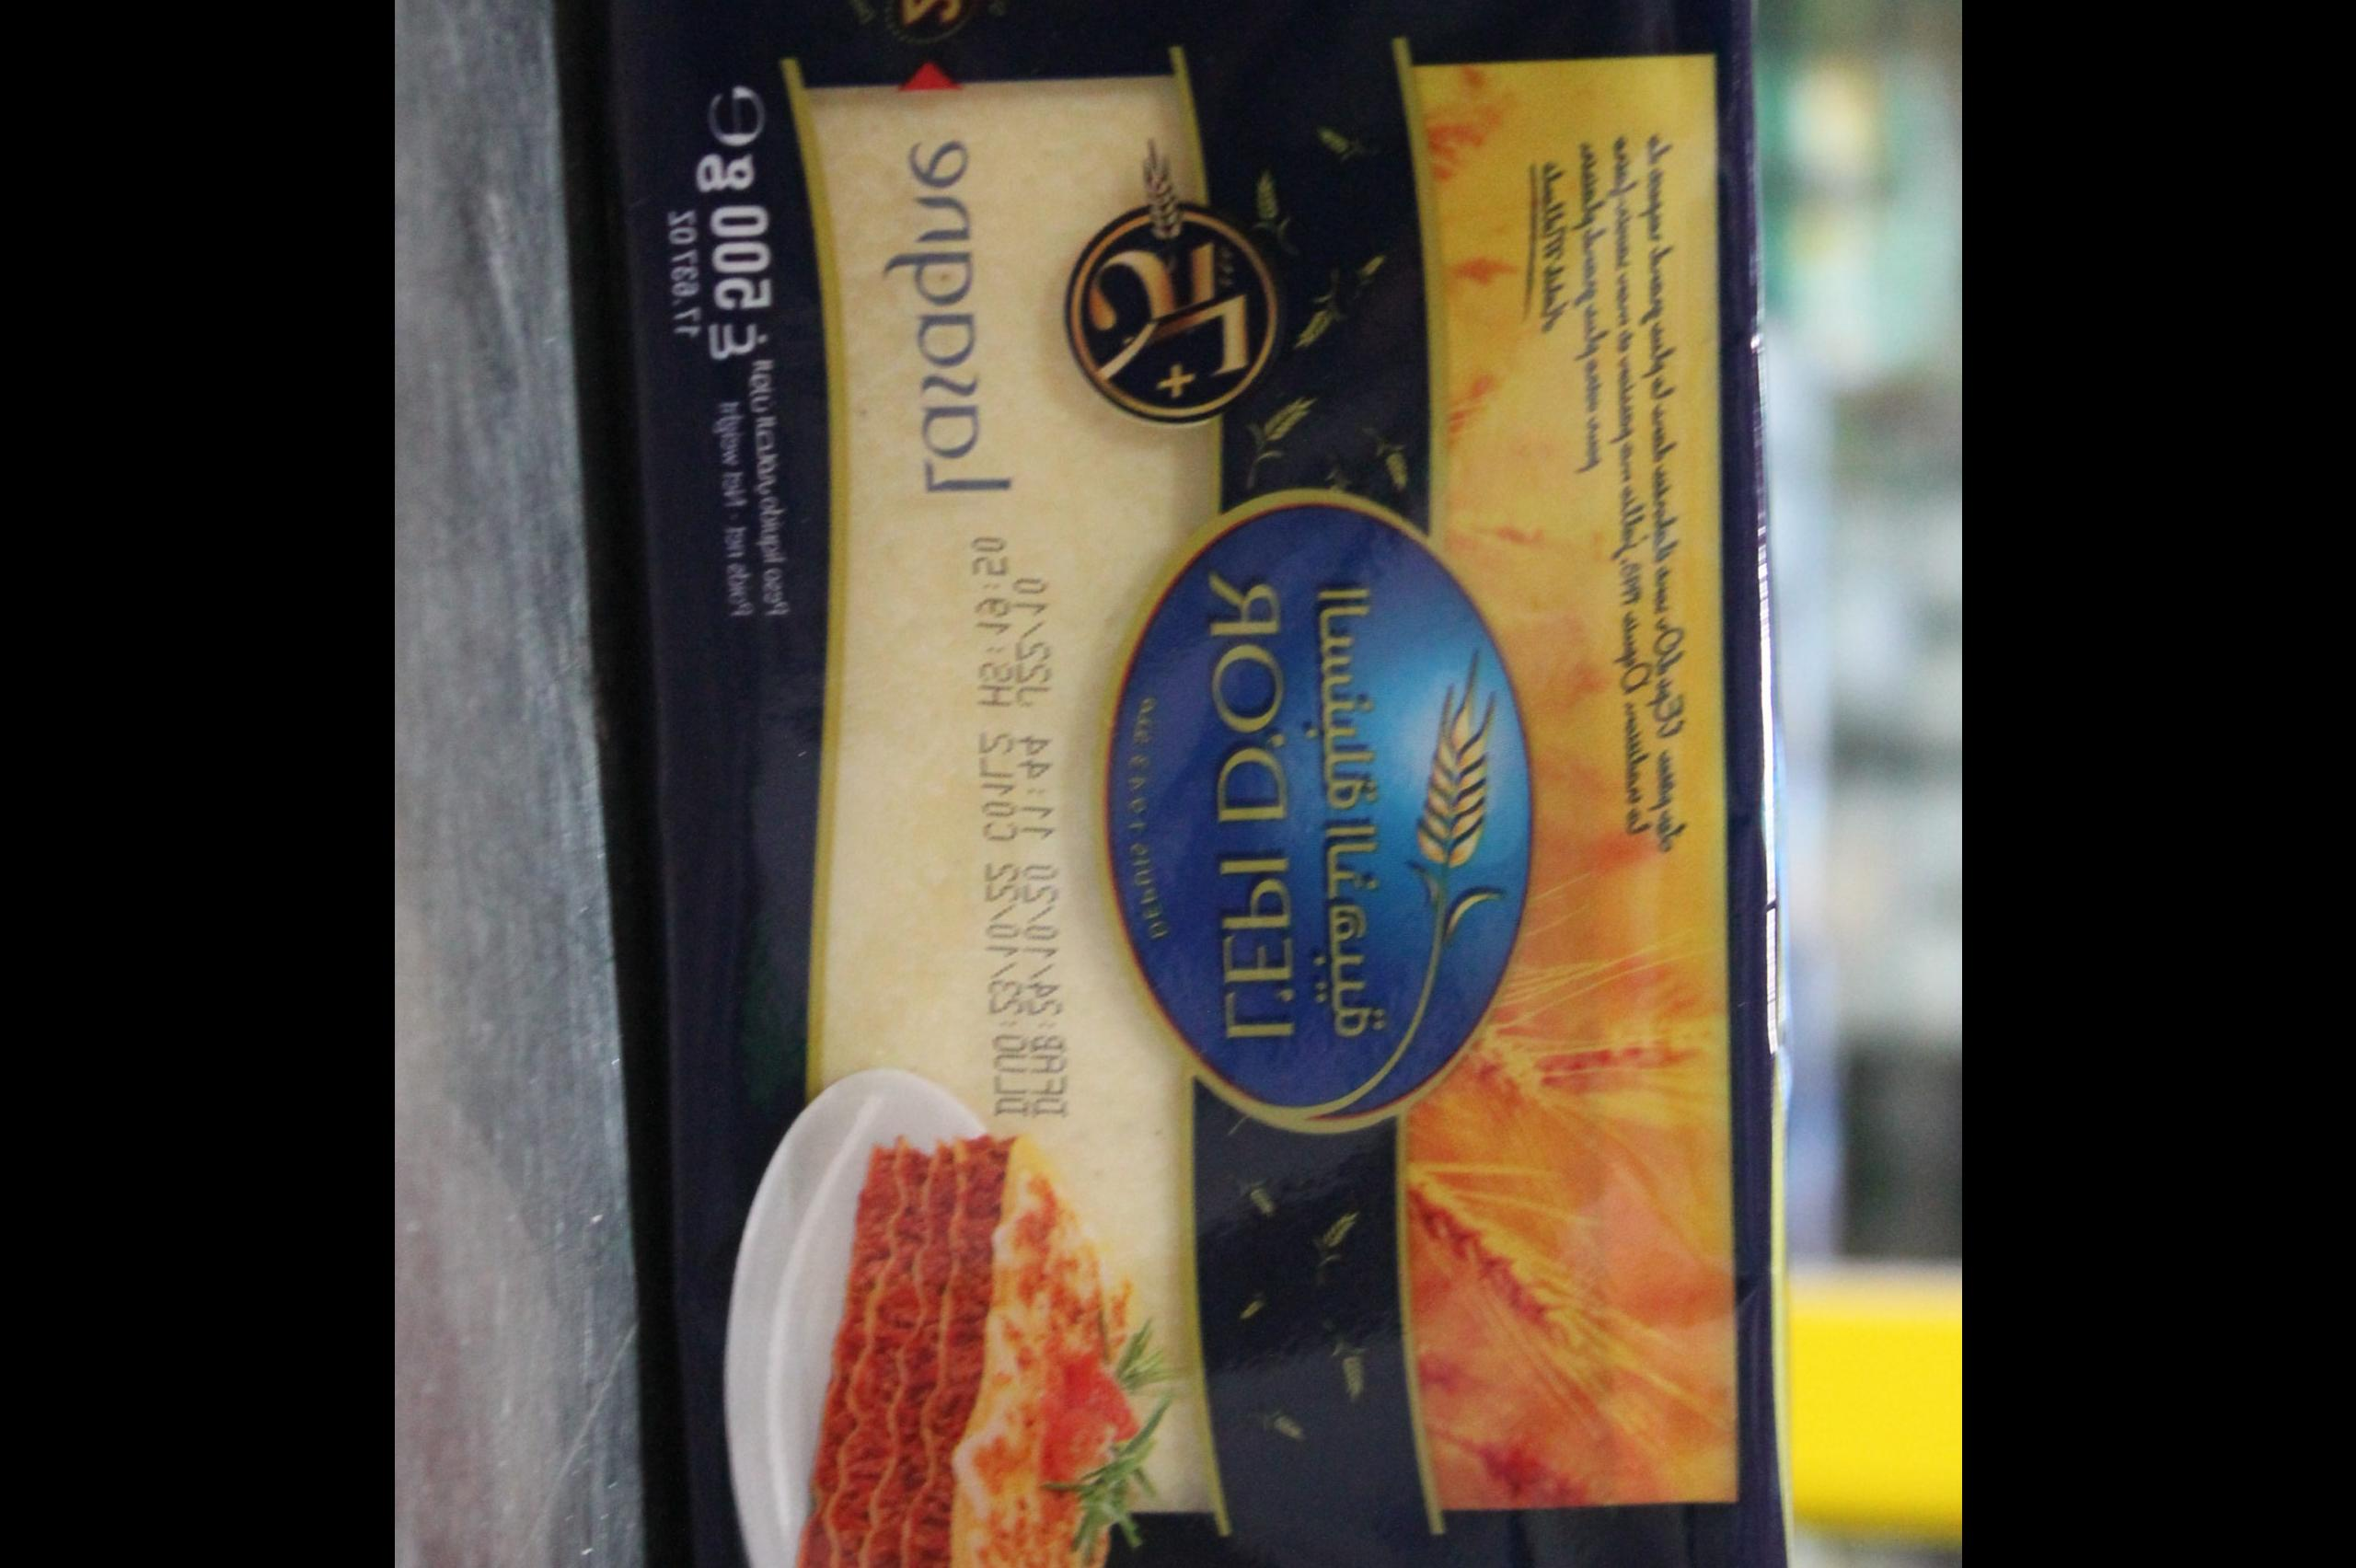lasagne: (826, 131, 1810, 1568)
